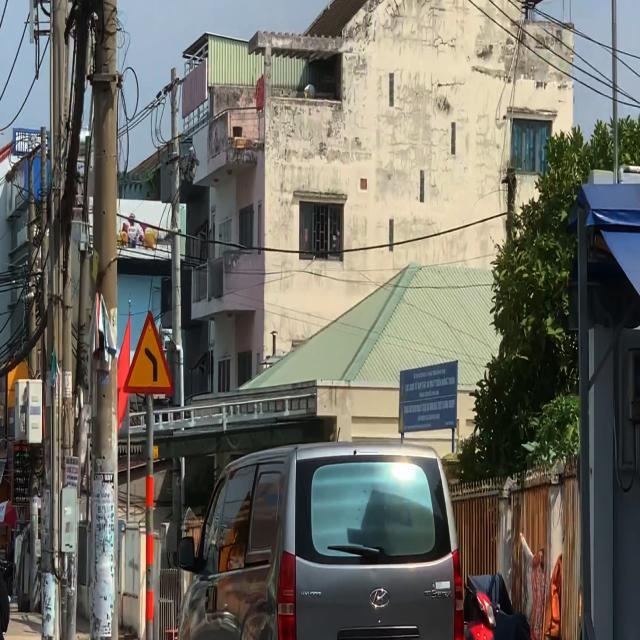Nguy hiem: (122, 308, 174, 396)
